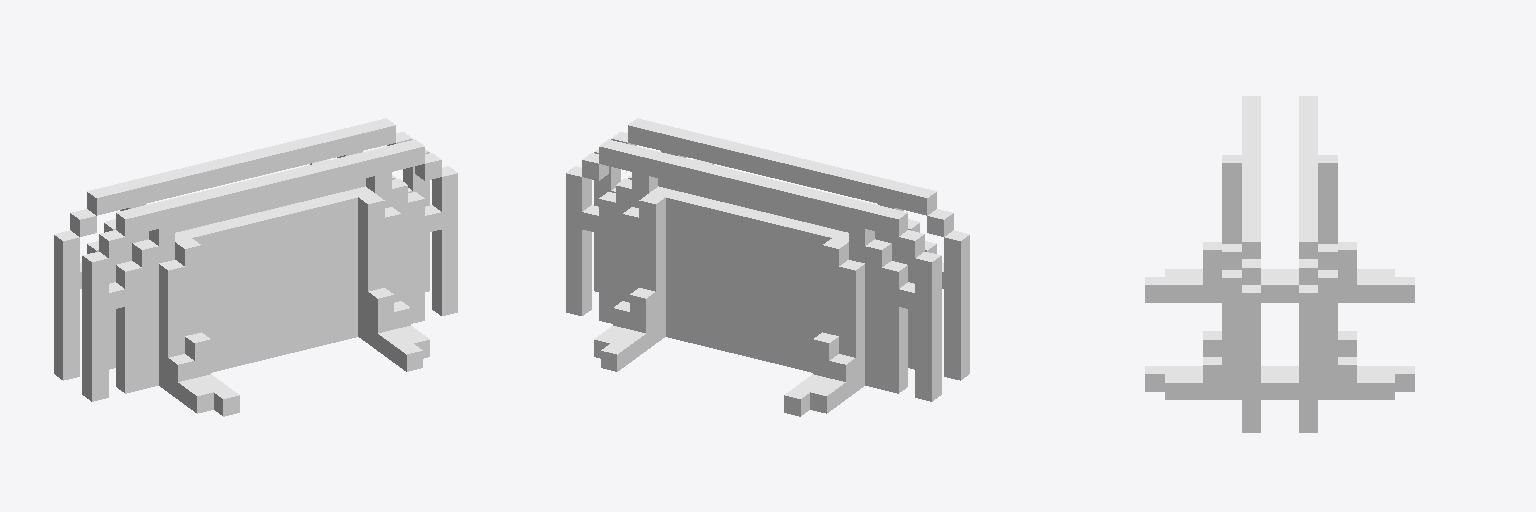
File: Roadblock0.obj
3 renders of one model, left to right at view 1: azimuth 30°, elevation 25°; view 2: azimuth 150°, elevation 25°; view 3: azimuth 270°, elevation 25°, orthographic.
Visible parts, largest first — view 1: object 1; view 2: object 1; view 3: object 1.
Part boxes in pixels (left/top/right/bottom): object 1: left=54, top=118, right=457, bottom=416; object 1: left=566, top=118, right=969, bottom=416; object 1: left=1145, top=96, right=1414, bottom=432.
Bounding box in the file's own units: 2.2 × 1 × 1.4.